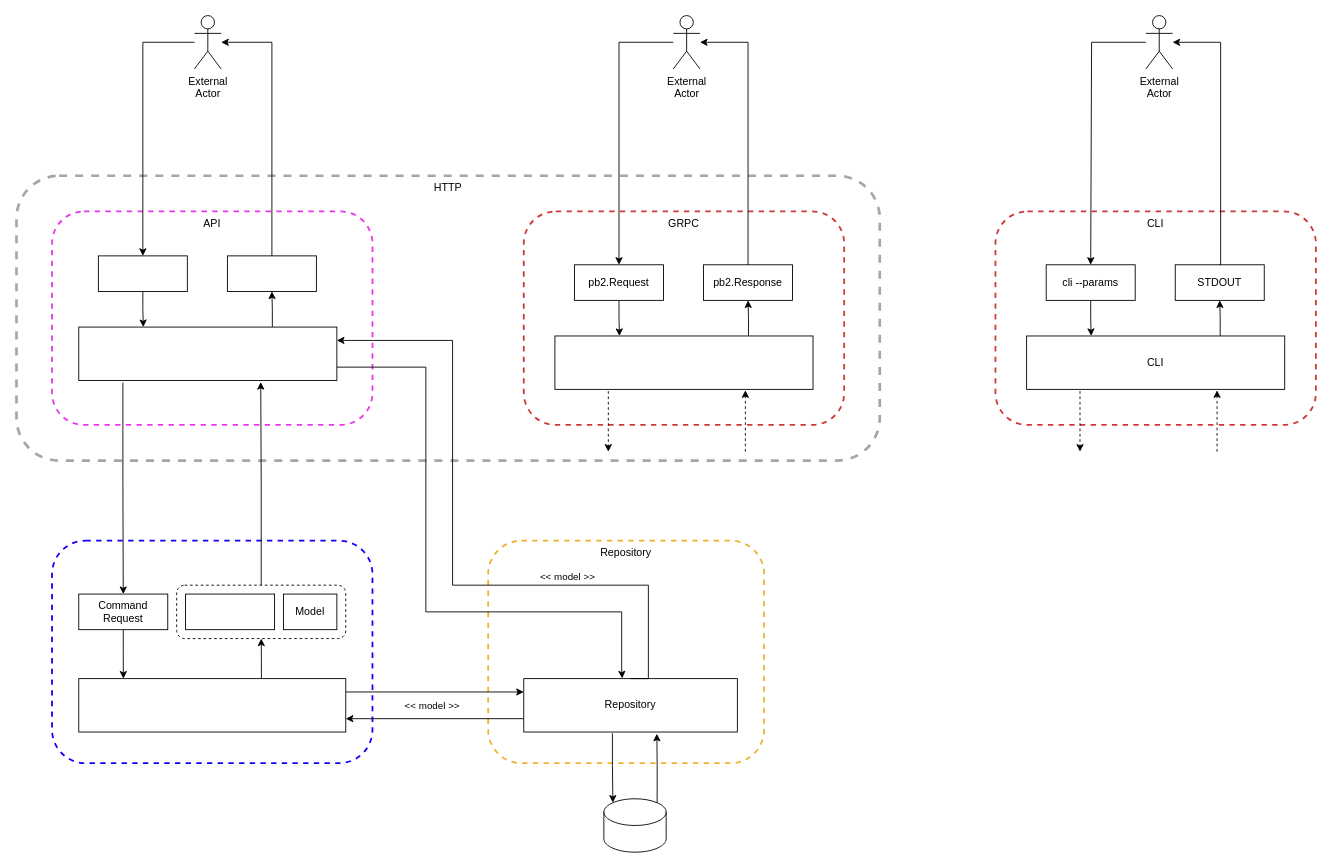
Image size: 1332x868. Some labels were removed from this diagram. Here are the shapes that lost their labels. From the top down, the box of each, then its label:
(97, 255, 187, 291): HTTP Request
(227, 255, 316, 291): HTTP Response
(78, 326, 337, 380): Fast API
(554, 335, 813, 389): GRPC Servicer
(185, 593, 275, 630): Command Response
(51, 539, 373, 764): Commands
(78, 678, 346, 732): Command
(603, 798, 666, 852): postgres
